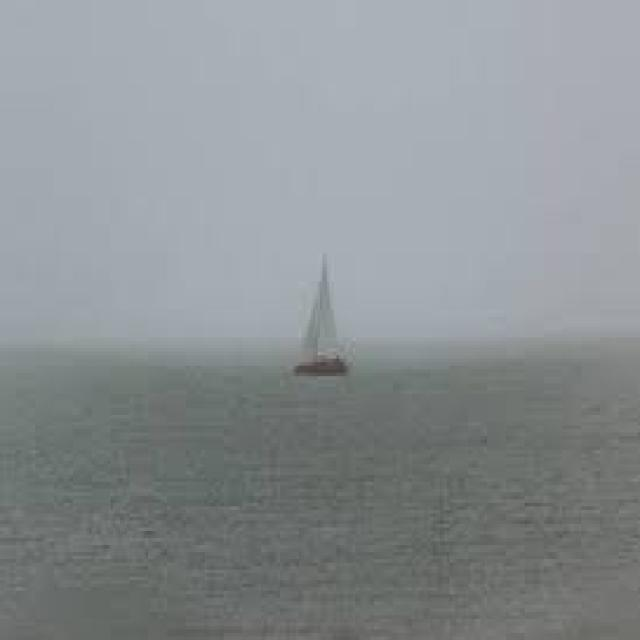sailboat: (280, 253, 348, 373)
